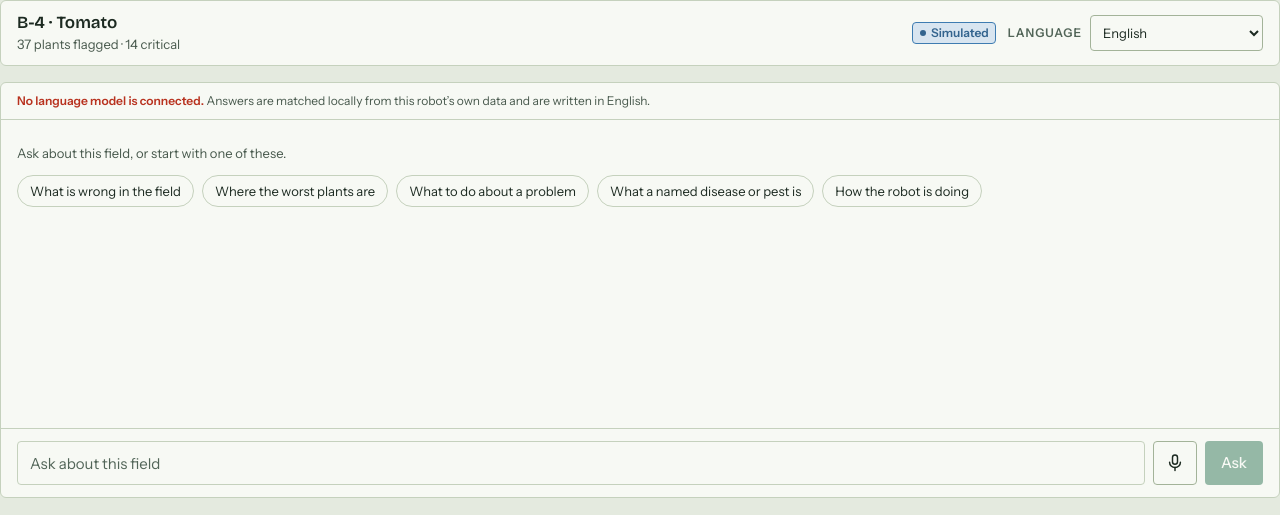
Test: ChatWorkspace › admits it cannot reply in a language once one is chosen
Select "தமிழ் · Tamil" in the dropdown labelled "Language": (1176,33) [1090,15,1263,51]
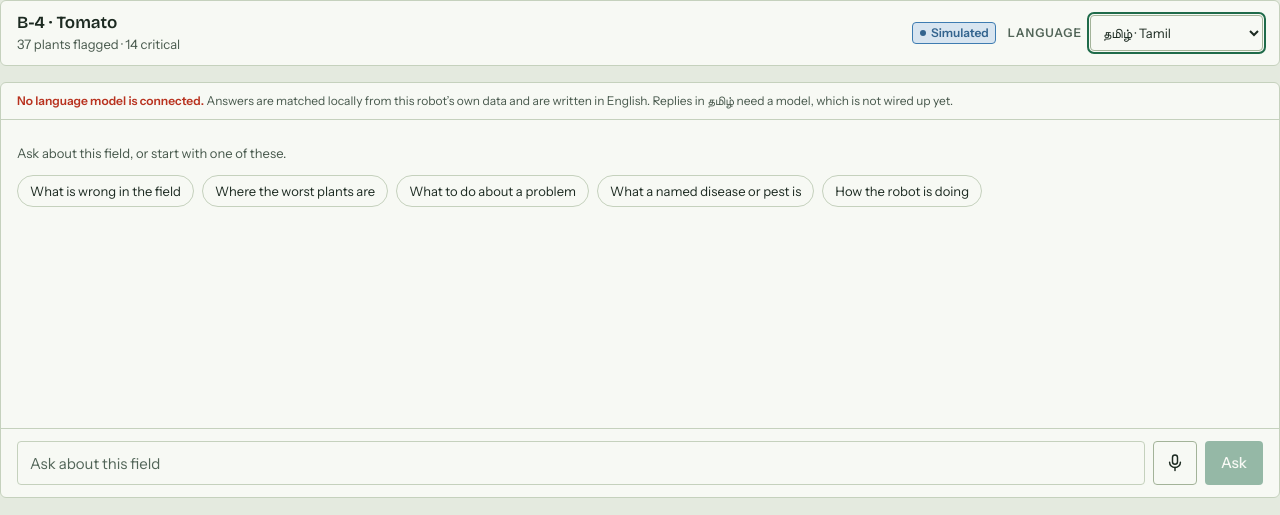
Check: the message named "Model availability" shows "need a model", box [736,93,953,108]
